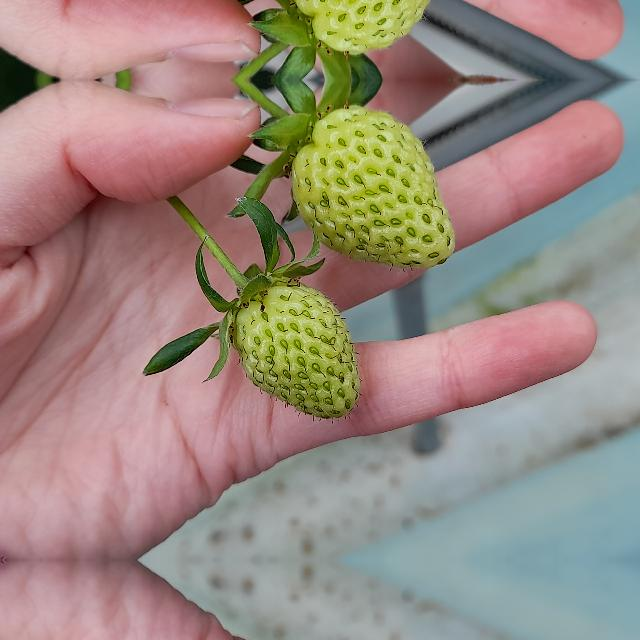Health_25: (286, 100, 458, 276), (230, 282, 360, 418), (286, 0, 458, 59)
